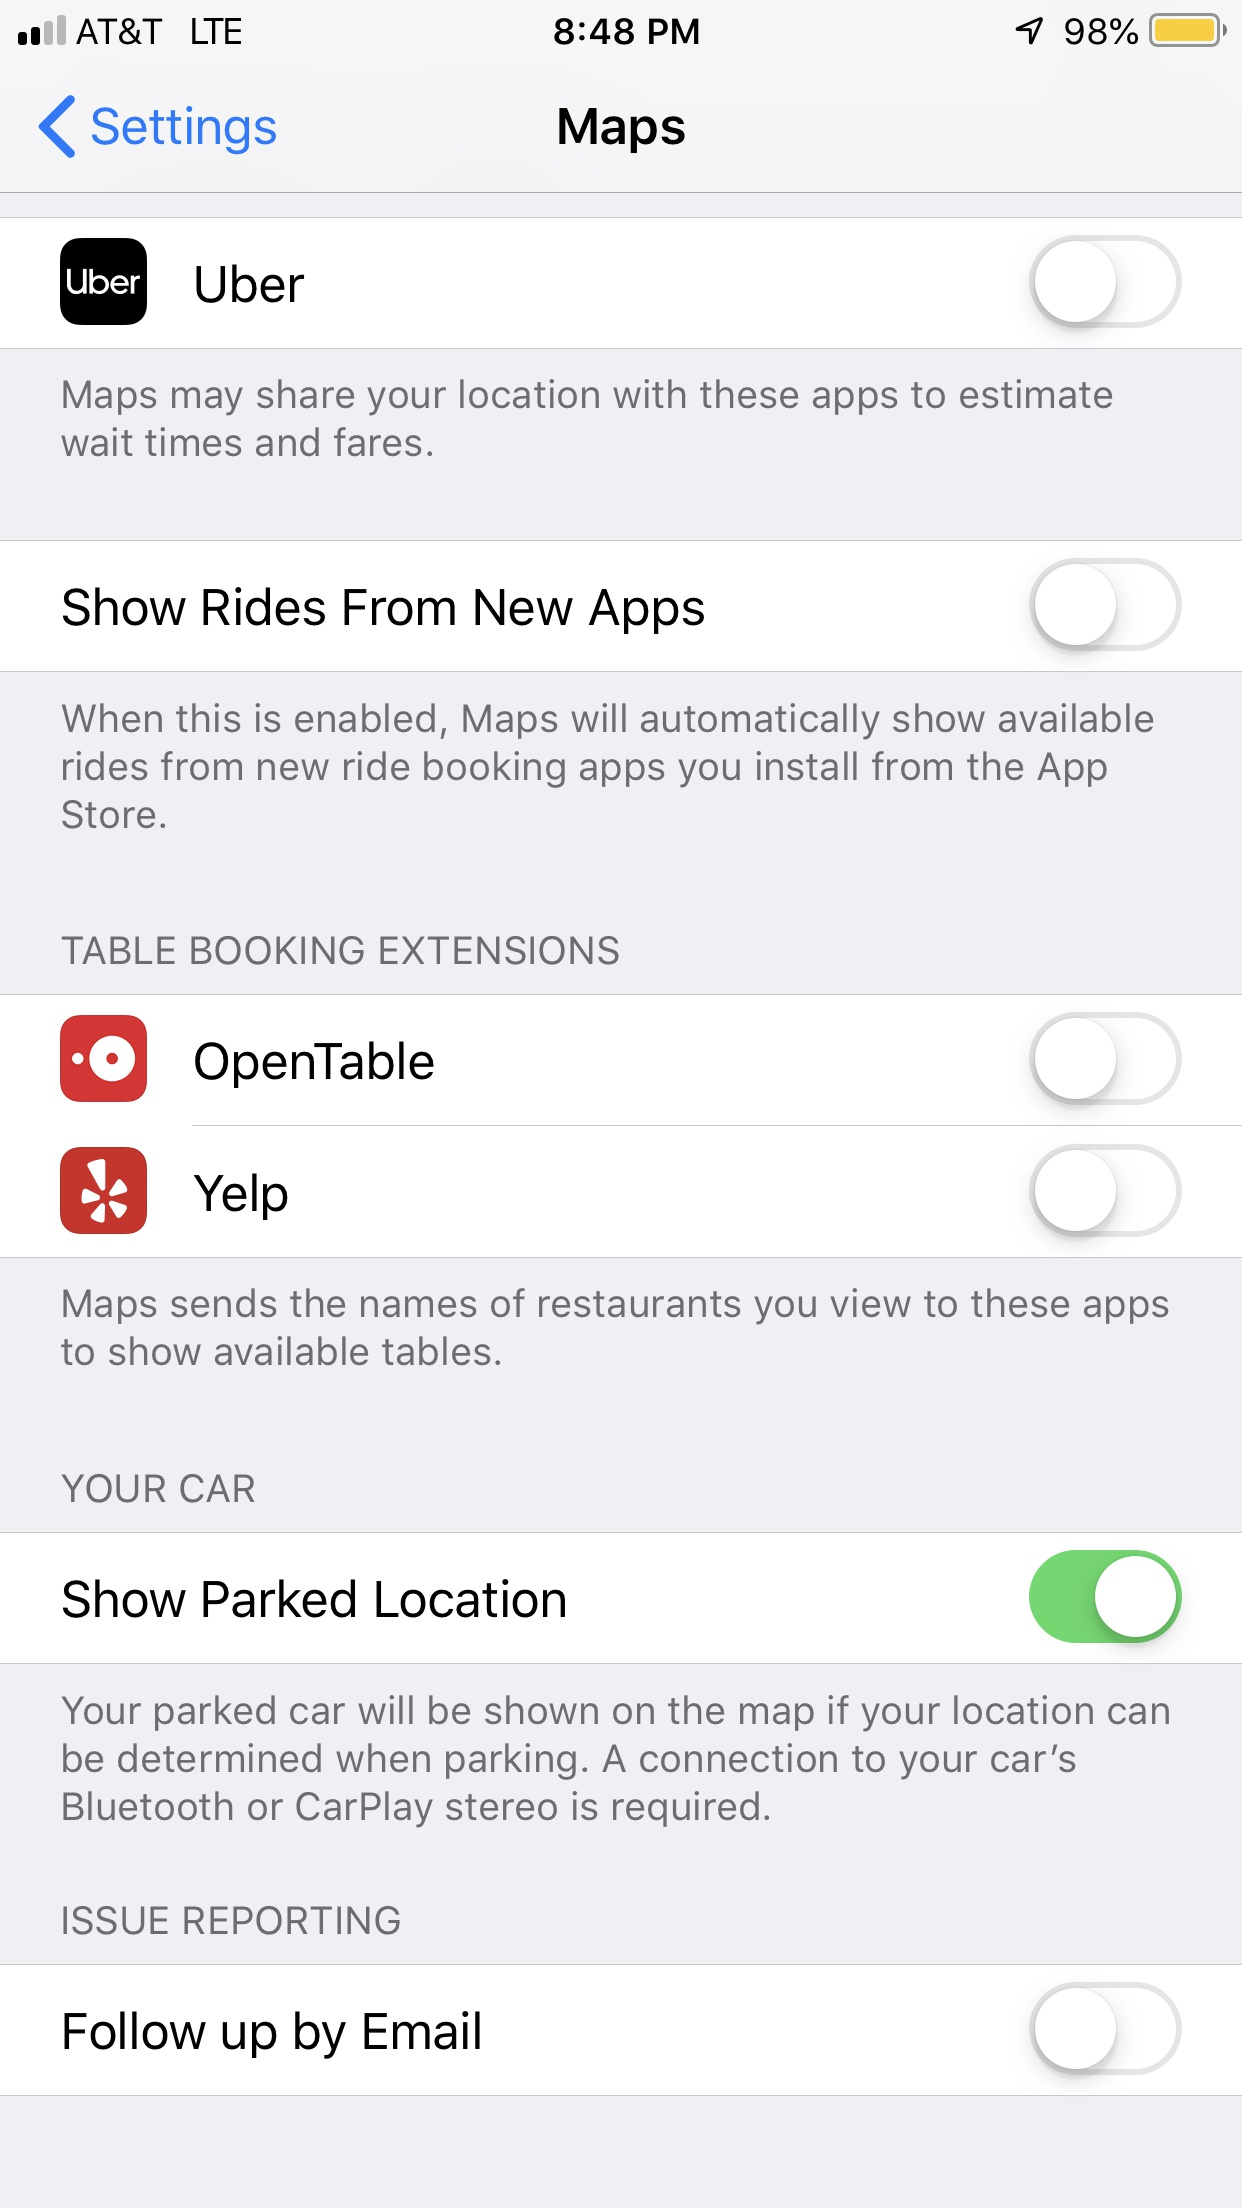Icon: (39, 96, 77, 161)
Image: (61, 238, 149, 326), (61, 1015, 149, 1102), (61, 1146, 149, 1234)
Switch: (1028, 1981, 1183, 2076), (1028, 1548, 1183, 1644), (1028, 1011, 1183, 1107), (1028, 558, 1183, 654), (1028, 235, 1183, 331), (1028, 1143, 1183, 1237)
Text: (62, 1694, 1171, 1829), (62, 702, 1154, 831), (61, 1287, 1169, 1366), (61, 379, 1113, 459), (62, 587, 705, 635), (64, 1579, 567, 1620), (65, 2011, 482, 2059), (62, 936, 620, 966), (196, 1040, 435, 1090), (64, 1905, 402, 1937), (93, 106, 278, 156), (61, 1473, 256, 1504), (558, 108, 685, 155), (196, 264, 306, 305), (194, 1174, 290, 1221)
UpperTaskBar: (2, 2, 1242, 49)
